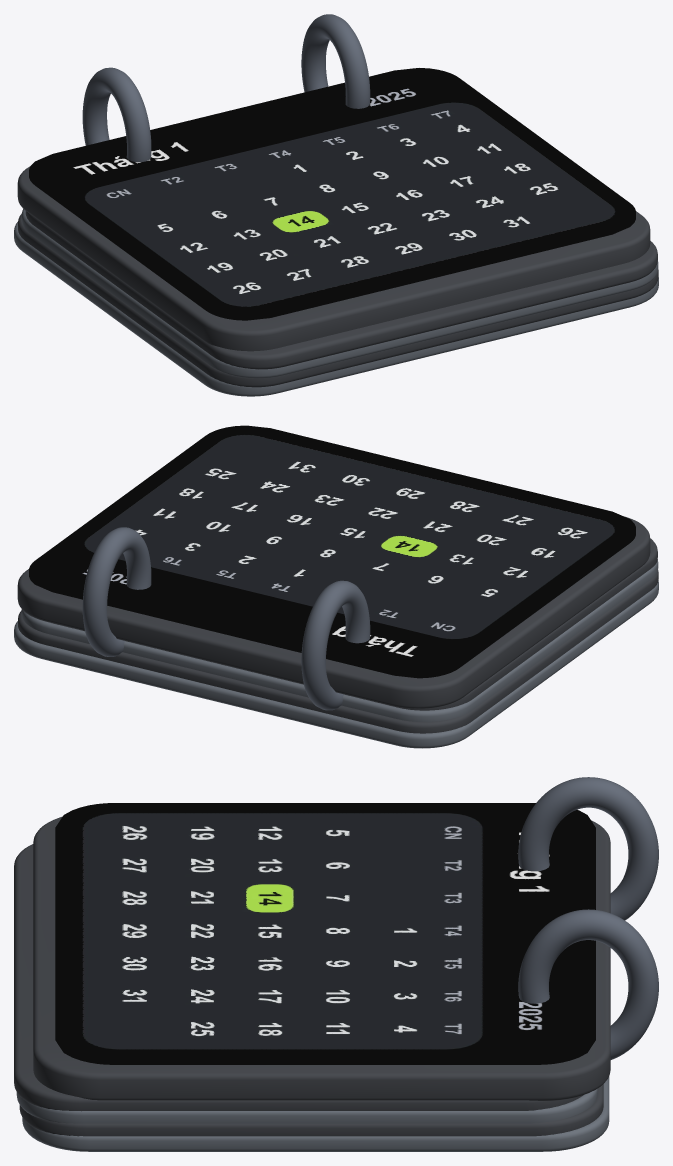
File: dopafit-calendar.glb
The picture shows the model from 3 angles, top to bottom: view 1: azimuth 30°, elevation 25°; view 2: azimuth 150°, elevation 25°; view 3: azimuth 270°, elevation 25°; orthographic projection. The views are drawn at different scales.
Parts seen in each view (by area): view 1: Page_1_front, Main rounded graphite body, Stack cover 3, Stack cover 0, Stack cover 1, Stack cover 2, Chrome binding ring.001, Chrome binding ring, Page_3_front, Page_2_front; view 2: Page_1_front, Main rounded graphite body, Stack cover 0, Stack cover 1, Stack cover 2, Chrome binding ring, Chrome binding ring.001, Stack cover 3, Page_2_front, Page_3_front; view 3: Page_1_front, Main rounded graphite body, Stack cover 3, Stack cover 0, Chrome binding ring.001, Stack cover 1, Chrome binding ring, Stack cover 2, Page_2_front, Page_3_front.
Boxes of the visible parts, <box> form: Page_1_front: <box>29,68,635,316</box>; Main rounded graphite body: <box>17,166,650,351</box>; Stack cover 3: <box>25,211,657,369</box>; Stack cover 0: <box>14,222,658,396</box>; Stack cover 1: <box>18,213,658,387</box>; Stack cover 2: <box>21,209,658,378</box>; Chrome binding ring.001: <box>301,14,370,108</box>; Chrome binding ring: <box>82,67,151,162</box>; Page_3_front: <box>29,176,635,320</box>; Page_2_front: <box>29,173,635,318</box>; Page_1_front: <box>29,425,635,673</box>; Main rounded graphite body: <box>17,516,650,708</box>; Stack cover 0: <box>14,580,658,748</box>; Stack cover 1: <box>18,570,658,733</box>; Stack cover 2: <box>21,559,658,721</box>; Chrome binding ring: <box>301,580,370,710</box>; Chrome binding ring.001: <box>82,527,151,656</box>; Stack cover 3: <box>54,538,657,710</box>; Page_2_front: <box>29,531,635,675</box>; Page_3_front: <box>29,533,635,678</box>; Page_1_front: <box>55,803,595,1059</box>; Main rounded graphite body: <box>33,816,610,1100</box>; Stack cover 3: <box>14,844,583,1111</box>; Stack cover 0: <box>22,1076,609,1151</box>; Chrome binding ring.001: <box>518,909,658,1059</box>; Stack cover 1: <box>19,1084,603,1136</box>; Chrome binding ring: <box>518,777,658,920</box>; Stack cover 2: <box>16,1088,597,1123</box>; Page_2_front: <box>55,1035,595,1062</box>; Page_3_front: <box>55,1038,595,1064</box>.
Bounding box in the file's own units: 5.24 × 1.57 × 5.27.
7 materials, 3 textured.
